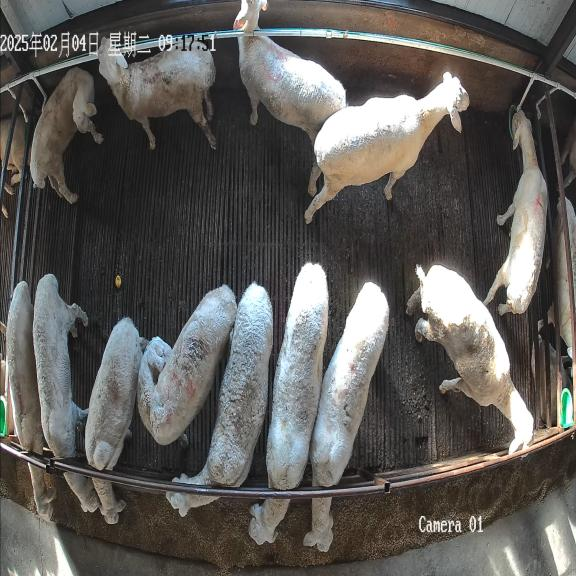drinking: (484, 110, 548, 315)
eating: (165, 282, 273, 516), (249, 263, 329, 545), (311, 281, 390, 552), (33, 274, 101, 512), (6, 281, 56, 521), (85, 318, 142, 524)
stand: (305, 72, 469, 223), (407, 265, 533, 454), (234, 0, 347, 145), (137, 284, 237, 447), (98, 37, 216, 149), (30, 67, 104, 203)
